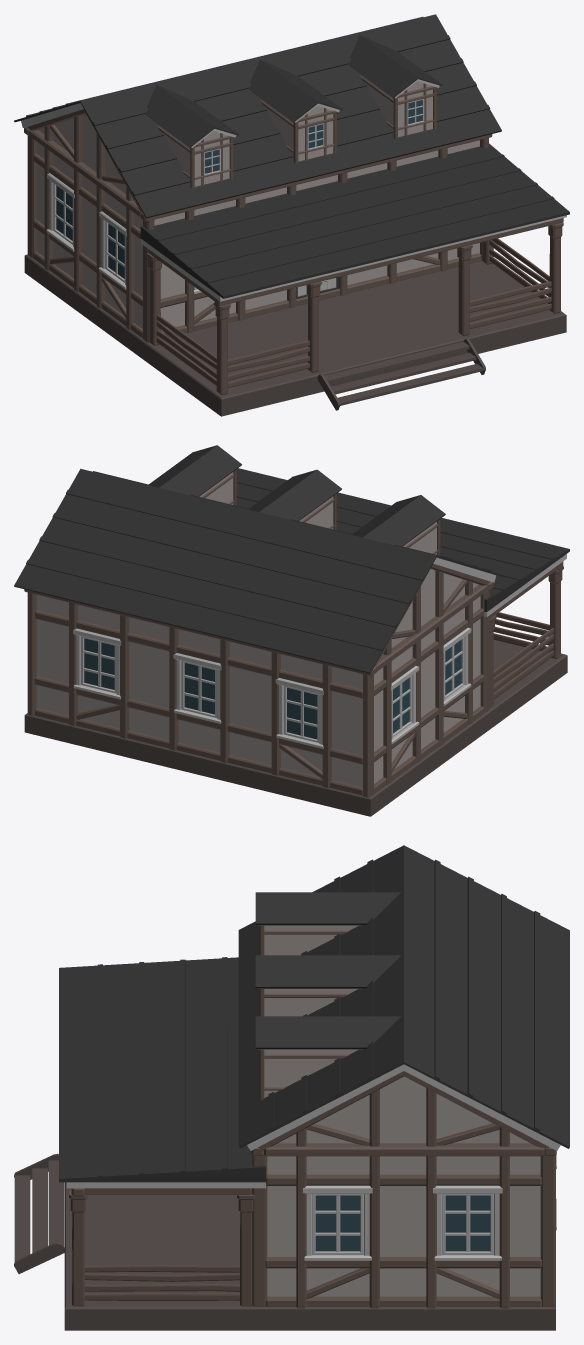
File: house_06.glb
The picture shows the model from 3 angles, top to bottom: view 1: azimuth 30°, elevation 25°; view 2: azimuth 150°, elevation 25°; view 3: azimuth 270°, elevation 25°; orthographic projection. The views are drawn at different scales.
Parts seen in each view (by area): view 1: house_06; view 2: house_06; view 3: house_06.
Part boxes in pixels (bbox=[...]): house_06: bbox=[14, 14, 569, 416]; house_06: bbox=[14, 445, 569, 816]; house_06: bbox=[14, 845, 569, 1330].
Size of the model in its own units: 10.64 by 6.34 by 11.53.
1 material, 1 textured.
